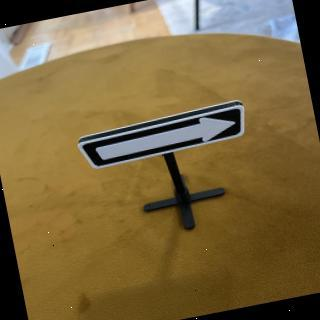sign_oneway_right: (74, 103, 252, 174)
